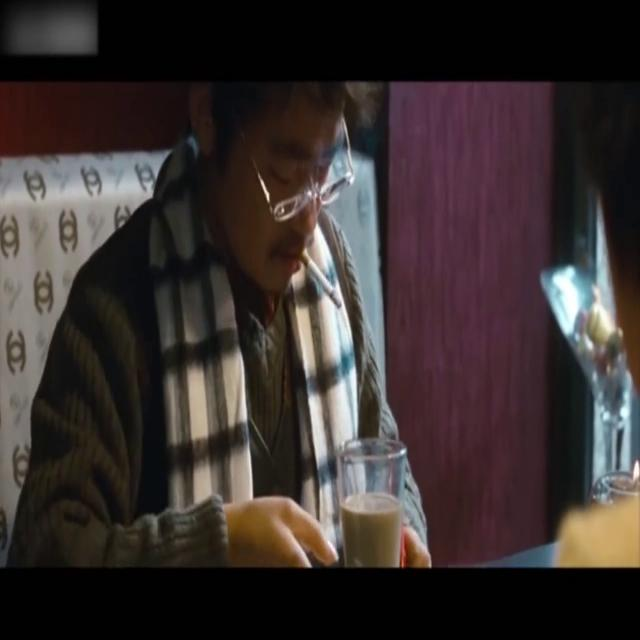smoking: (298, 250, 343, 310)
